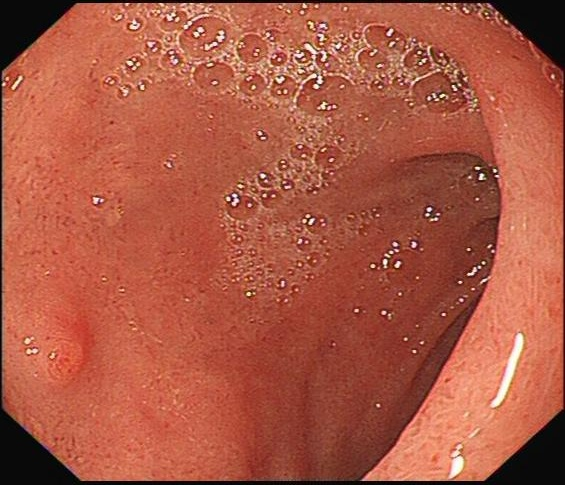Polyp: (15, 312, 100, 397)
